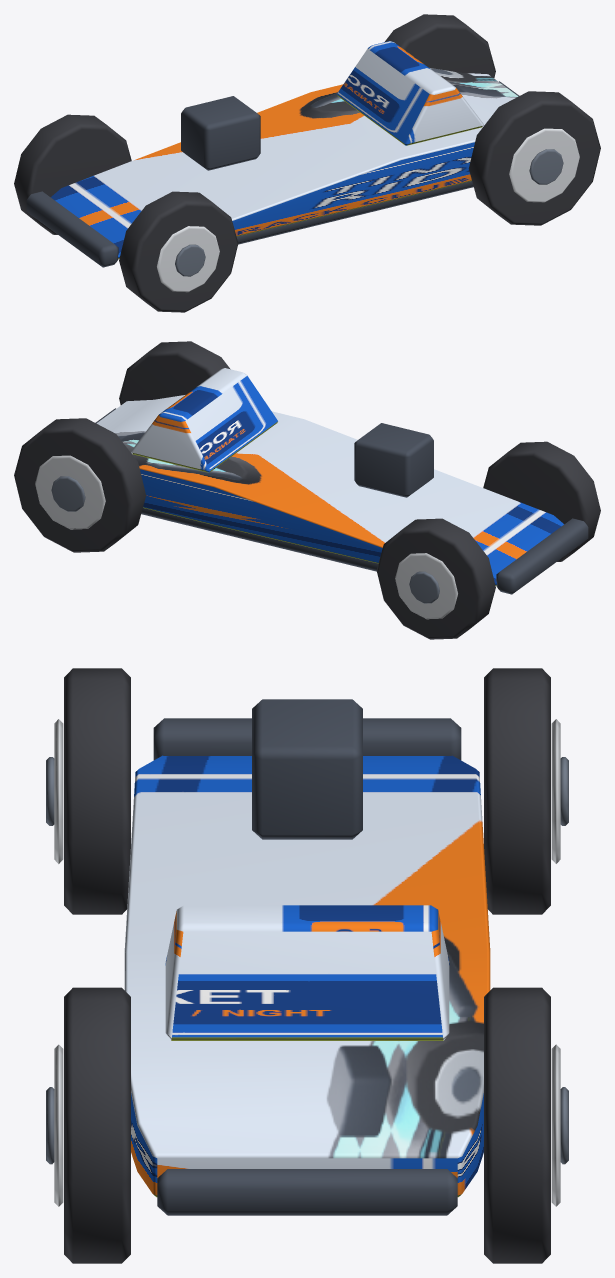
The picture shows the model from 3 angles, top to bottom: view 1: azimuth 30°, elevation 25°; view 2: azimuth 150°, elevation 25°; view 3: azimuth 270°, elevation 25°; orthographic projection. The views are drawn at different scales.
Visible parts, largest first — view 1: TC-04_connected_shell, Tire.002, TC-04_cabin, Tire, Tire.001, engine scoop, Tire.003, Rim.002, front bumper, Rim, underbody, Hub.002 (+1 smaller); view 2: TC-04_connected_shell, Tire.003, TC-04_cabin, Tire.001, Tire, engine scoop, Tire.002, Rim.003, front bumper, Rim.001, underbody, Hub.003 (+1 smaller); view 3: TC-04_connected_shell, TC-04_cabin, Tire.002, Tire.003, Tire, Tire.001, engine scoop, rear bumper, front bumper, Rim.002, Rim.003, Rim (+1 smaller).
Boxes of the visible parts, x1,y1,x2,y2 form: TC-04_connected_shell: (51, 68, 518, 258); Tire.002: (468, 91, 600, 225); TC-04_cabin: (337, 41, 483, 145); Tire: (119, 191, 238, 312); Tire.001: (14, 114, 131, 234); engine scoop: (181, 96, 260, 170); Tire.003: (384, 14, 495, 78); Rim.002: (509, 128, 579, 202); front bumper: (26, 191, 118, 267); Rim: (157, 226, 219, 292); underbody: (236, 181, 473, 244); Hub.002: (529, 149, 563, 184); TC-04_connected_shell: (96, 395, 563, 585); Tire.003: (14, 418, 146, 552); TC-04_cabin: (131, 368, 277, 472); Tire.001: (376, 518, 495, 639); Tire: (483, 441, 600, 561); engine scoop: (354, 423, 433, 497); Tire.002: (119, 341, 230, 405); Rim.003: (35, 455, 105, 529); front bumper: (496, 518, 588, 594); Rim.001: (395, 553, 457, 619); underbody: (141, 508, 378, 571); Hub.003: (51, 476, 85, 511); TC-04_connected_shell: (124, 755, 490, 1197); TC-04_cabin: (165, 905, 449, 1040); Tire.002: (64, 987, 130, 1263); Tire.003: (484, 987, 550, 1263); Tire: (64, 668, 130, 914); Tire.001: (484, 668, 550, 914); engine scoop: (252, 699, 362, 839); rear bumper: (157, 1169, 457, 1215); front bumper: (153, 718, 461, 760); Rim.002: (54, 1044, 63, 1206); Rim.003: (551, 1044, 560, 1206); Rim: (54, 719, 63, 863).
Size of the model in its own units: 430 by 117 by 203.
